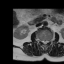CCS_stenosis: (44, 38, 46, 47)
LFS_normal: (48, 38, 50, 44)
LLS_normal: (46, 38, 48, 46)
RFS_normal: (40, 38, 42, 43)
RLS_normal: (42, 38, 44, 45)
